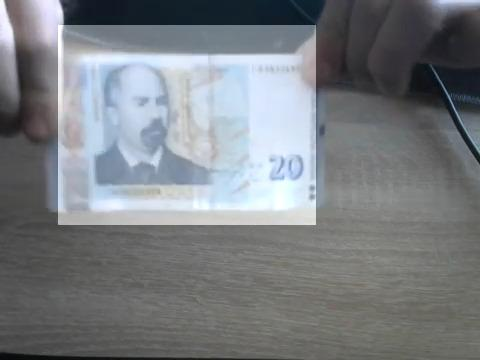20leva: (58, 25, 316, 225)
